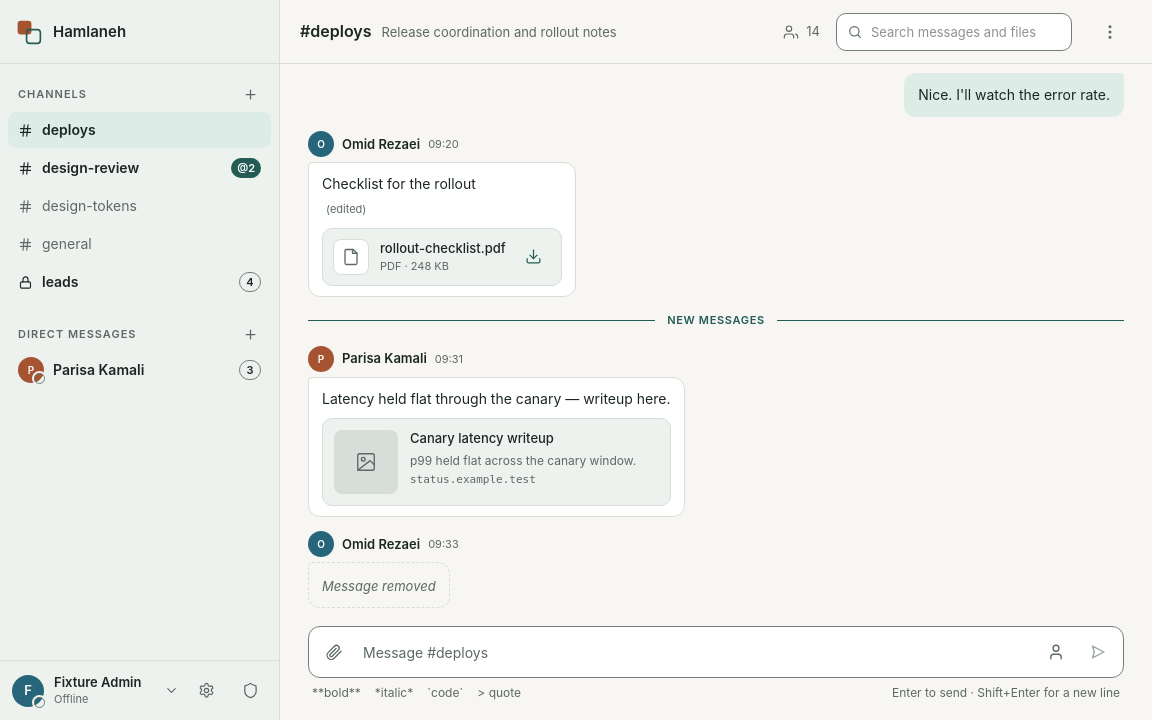
the channel menu › sets the topic through the contract's PATCH
The width and height of the screenshot is (1152, 720).
(page scrolled)
Click the button named "Channel actions" at {"x": 1110, "y": 32}, box [1088, 10, 1132, 54]
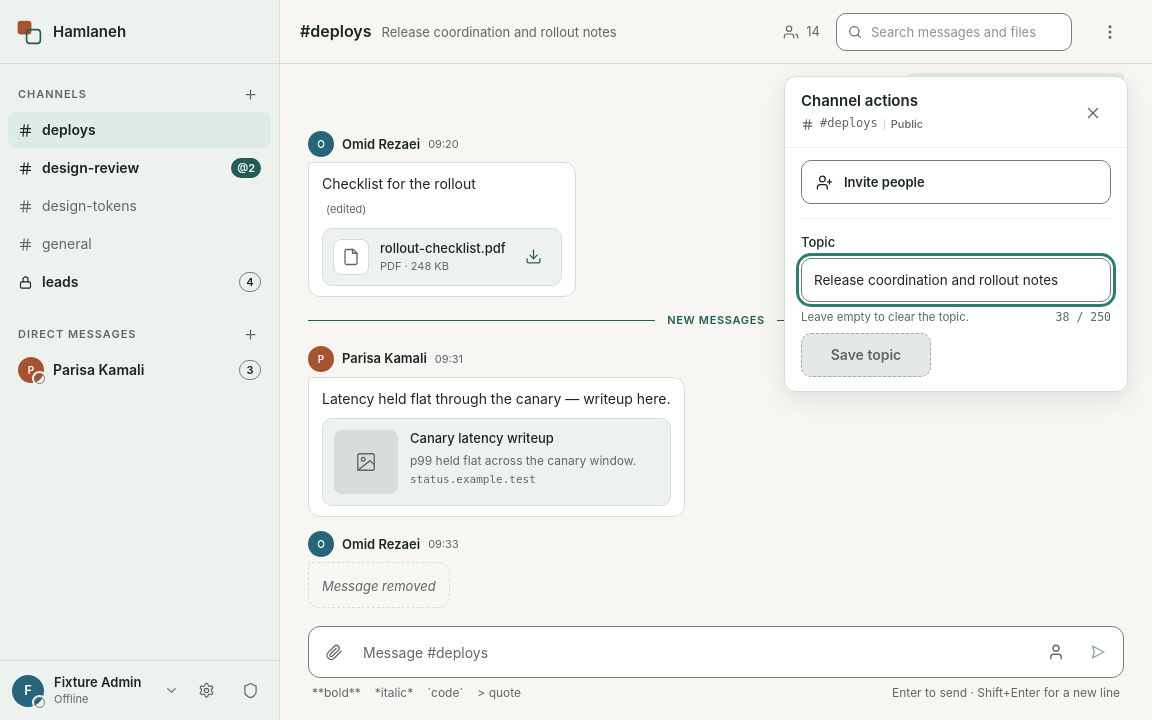
Replace the text in the field labelled "Topic" with "Rollouts and rollbacks" at {"x": 956, "y": 280}, box [801, 258, 1111, 302]
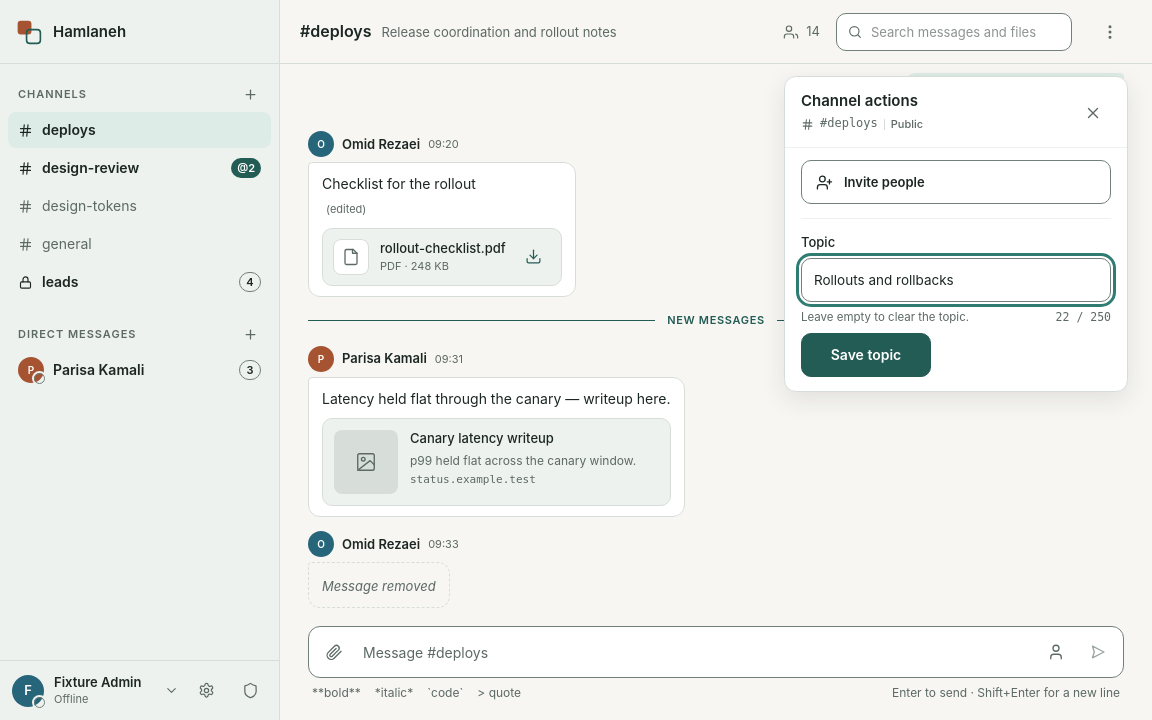
Click the button "Save topic" at {"x": 866, "y": 355}, box [801, 333, 931, 377]
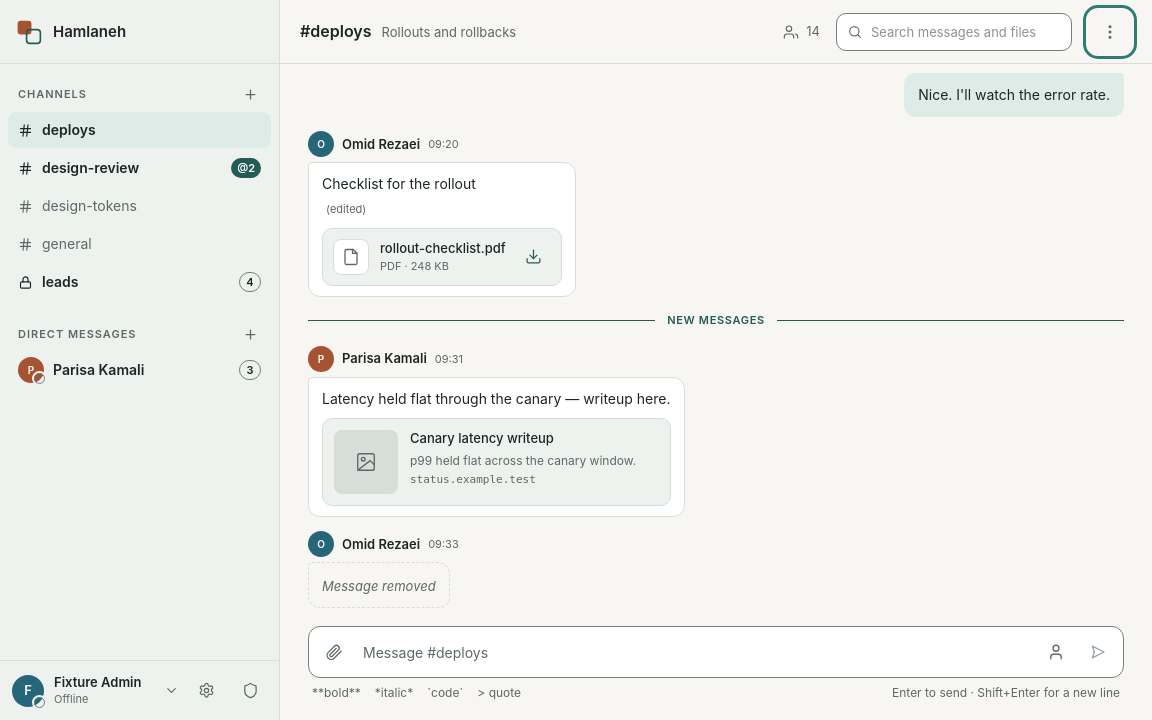
Check: the text "Rollouts and rollbacks" is shown, box [382, 23, 516, 41]
